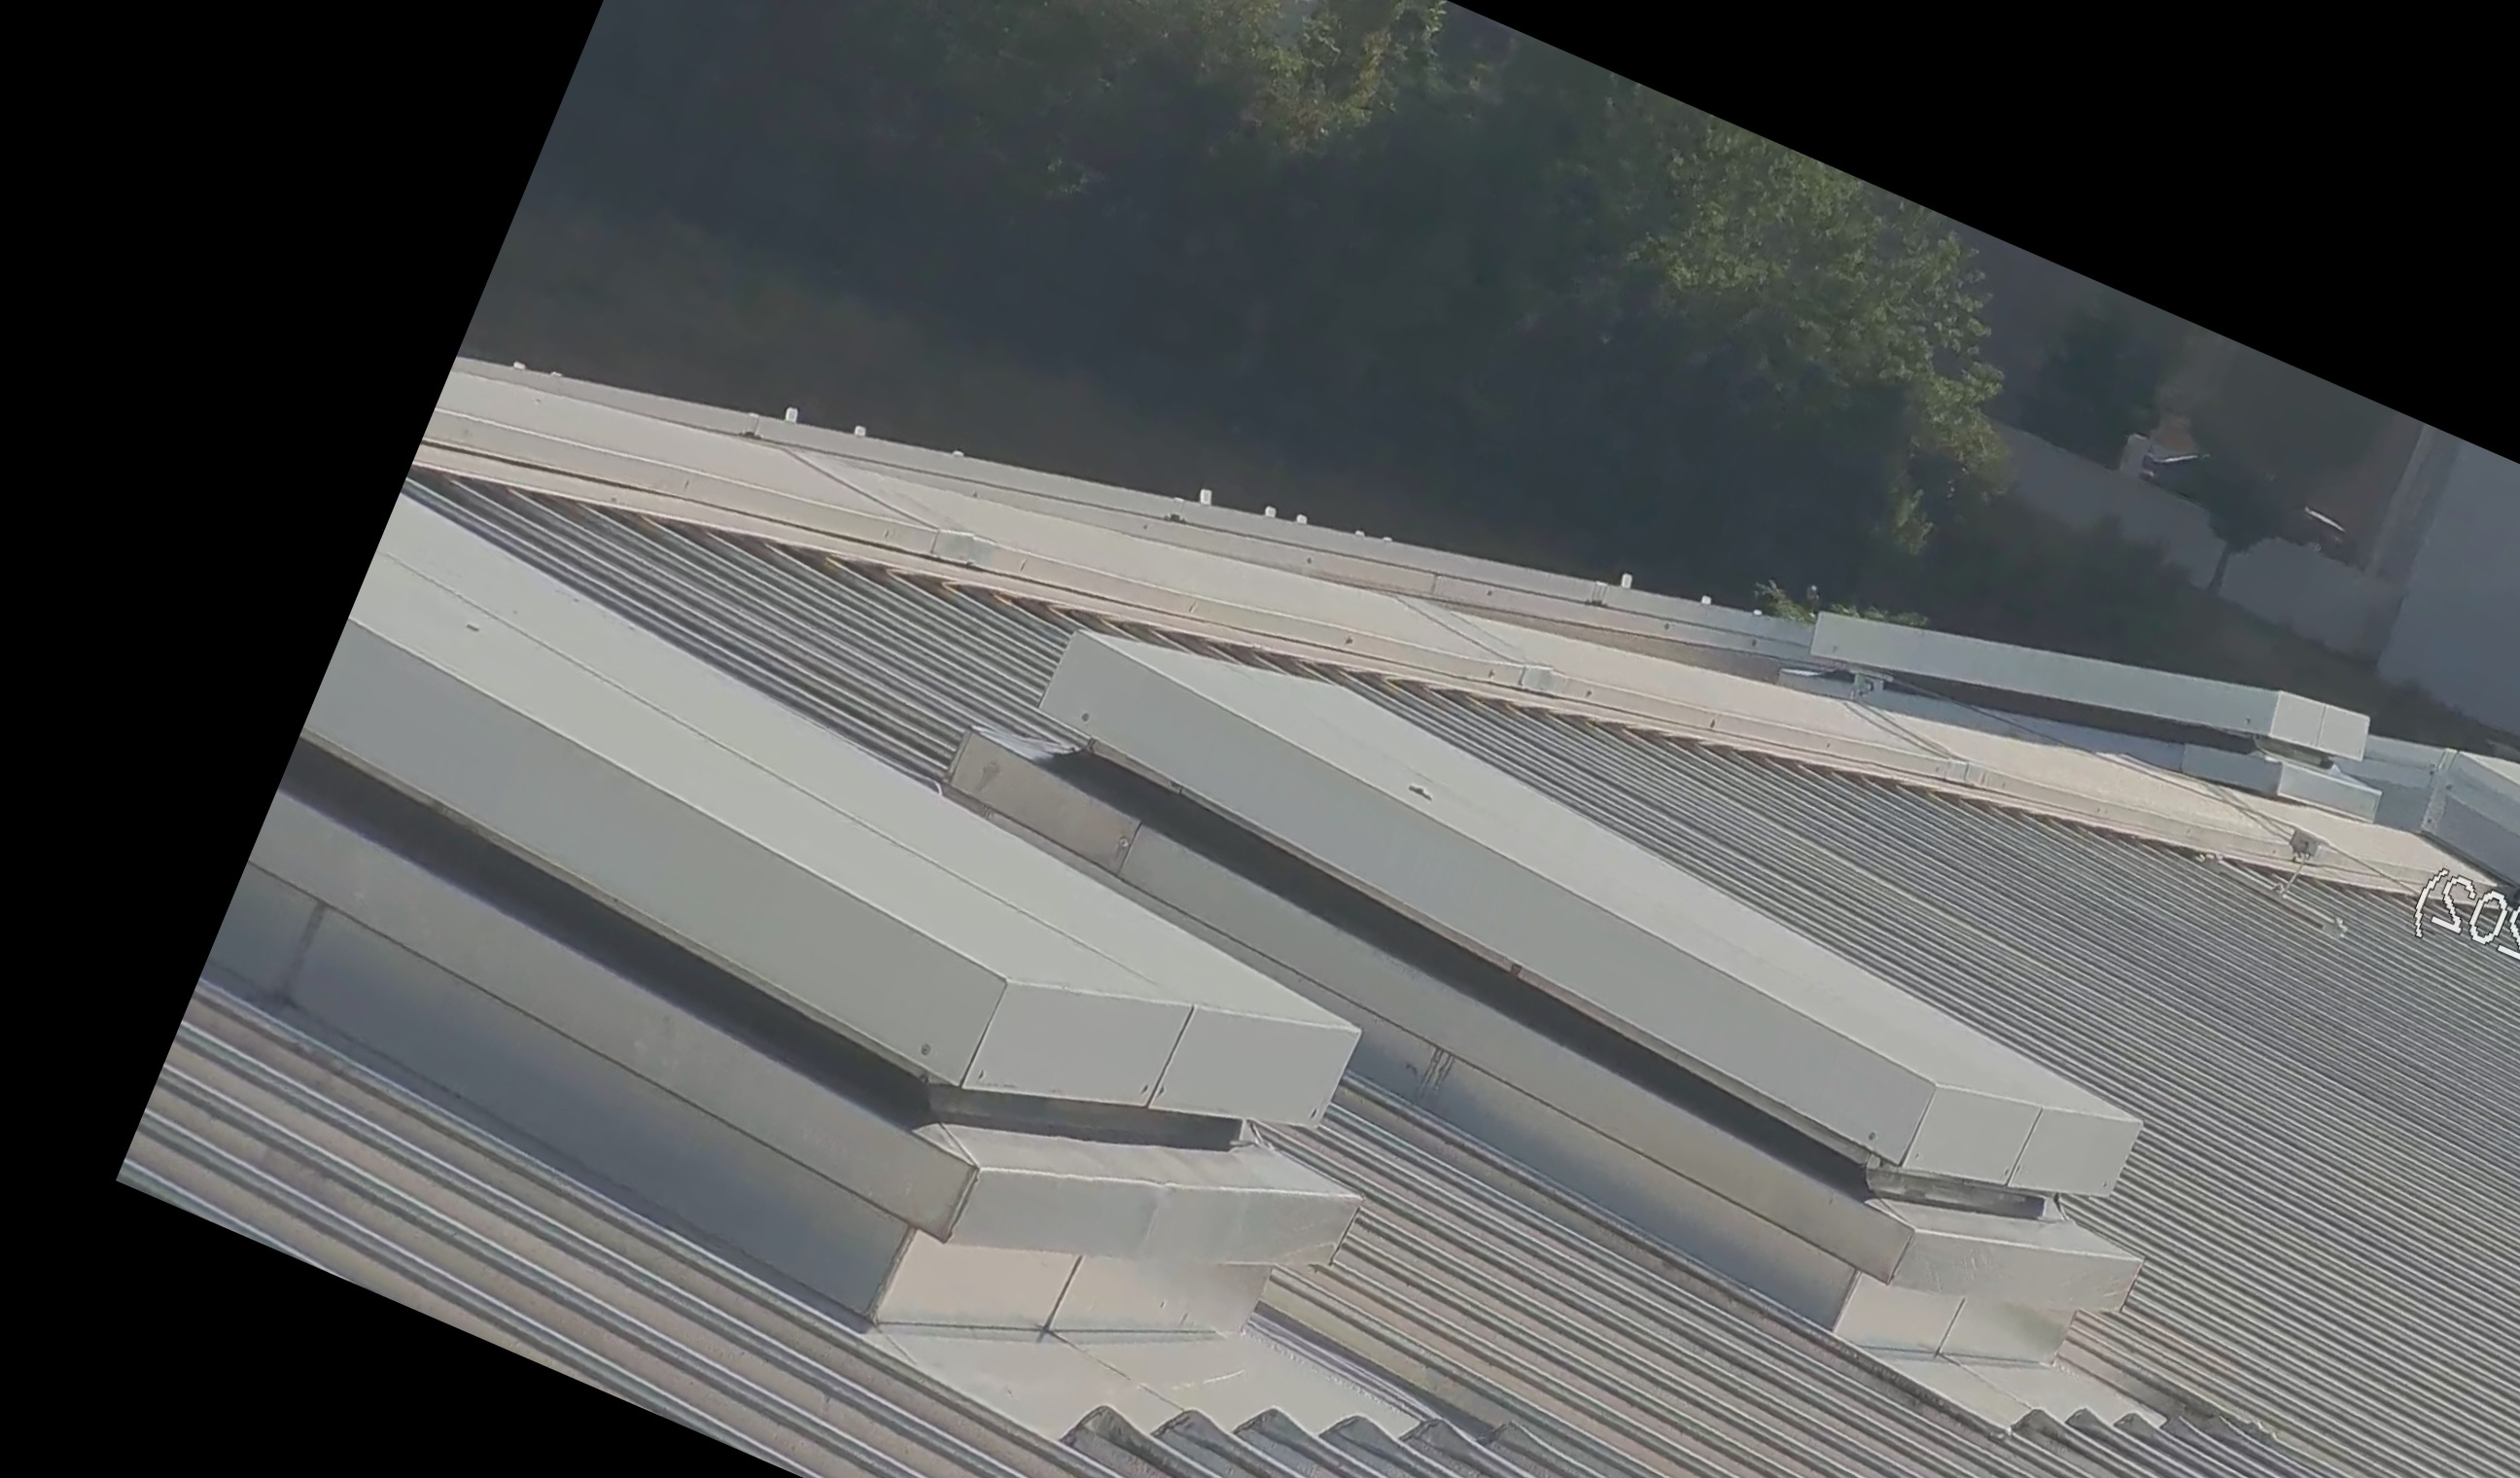Other: (2105, 380, 2363, 607)
